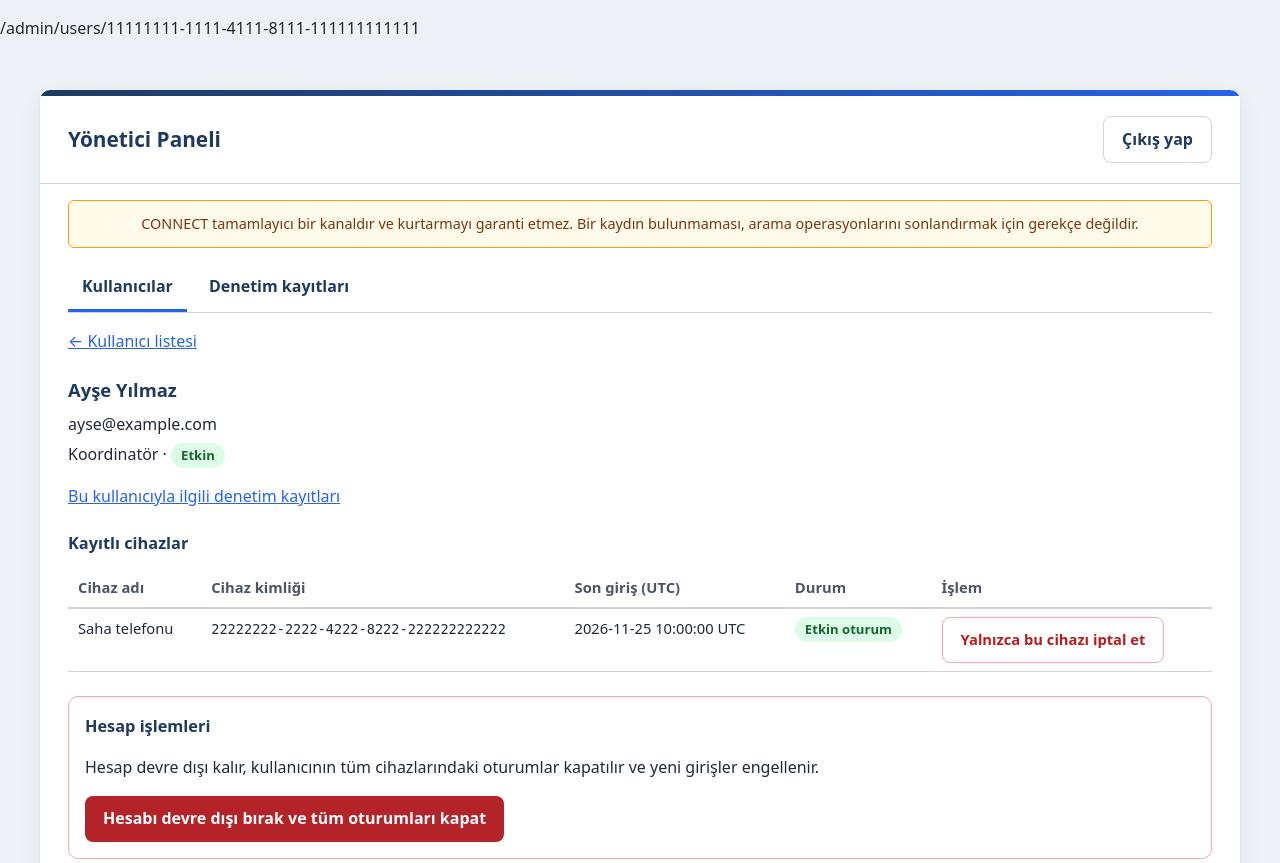
it: UserDevicesPage destructive actions › a double click on "Cihazı iptal et" sends ONE device revoke and never revoke-all
This screenshot has width=1280, height=863.
Click the button with aria-label "Yalnızca bu cihazı iptal et:" at {"x": 1053, "y": 640}, box [942,617,1164,663]
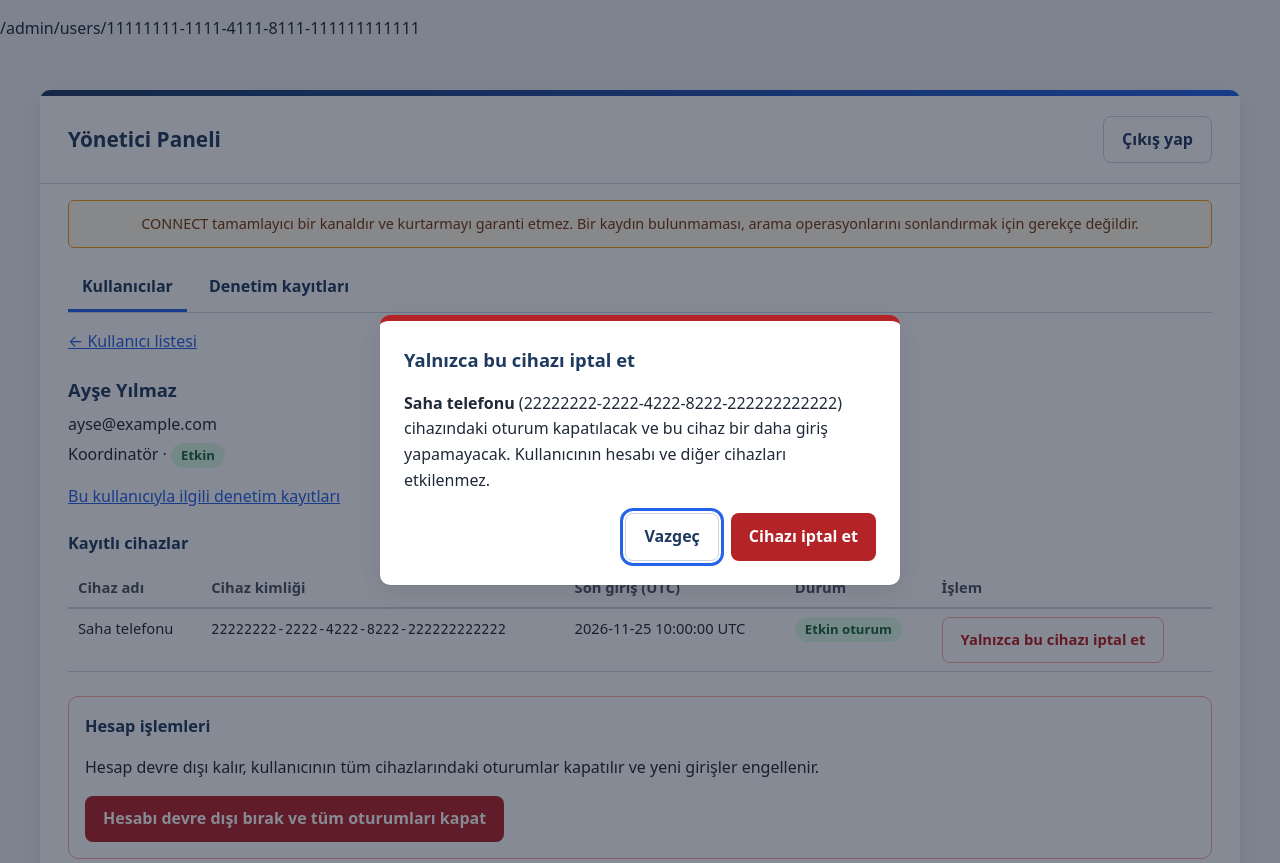
Double-click the button "Cihazı iptal et" at {"x": 803, "y": 537}, box [731,513,876,561]
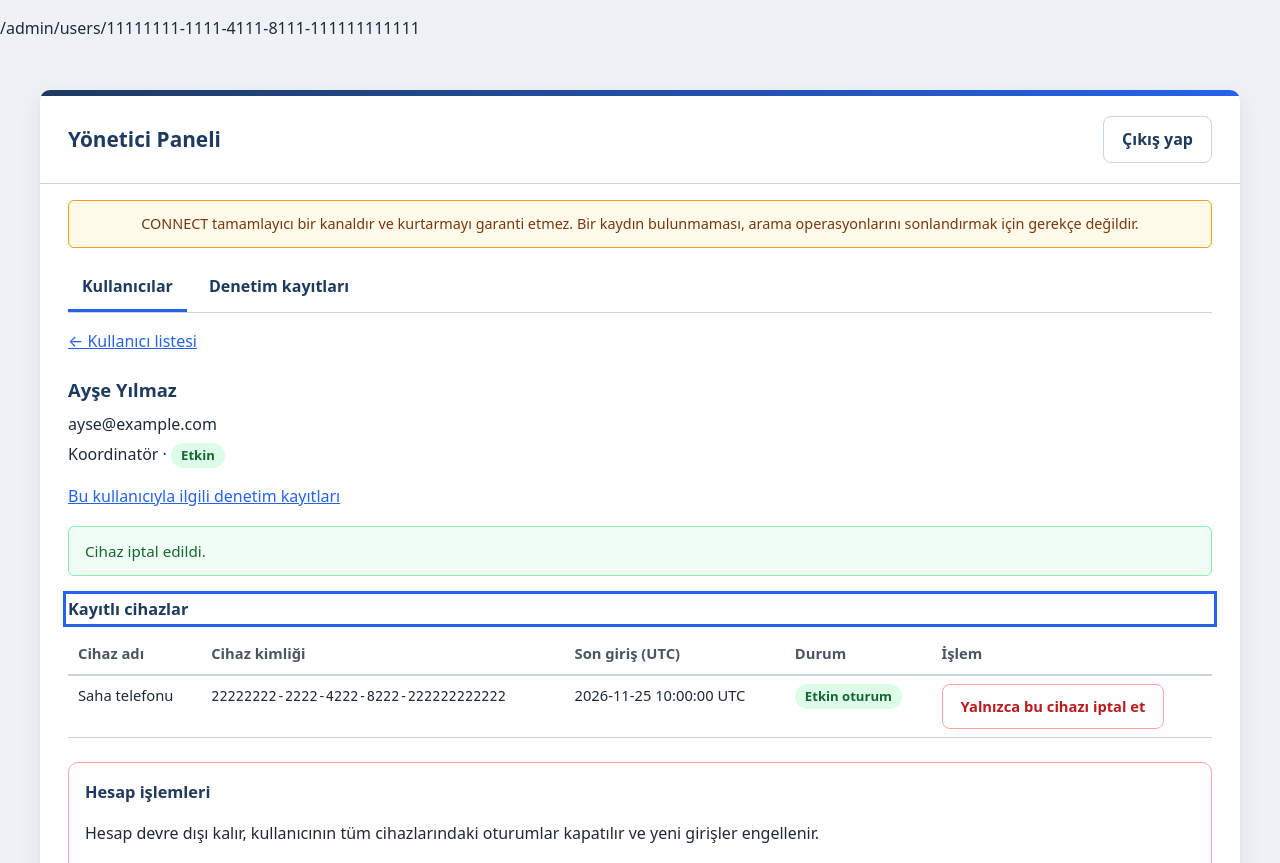
Check: the text "Cihaz iptal edildi." is shown, box [68,526,1212,576]
